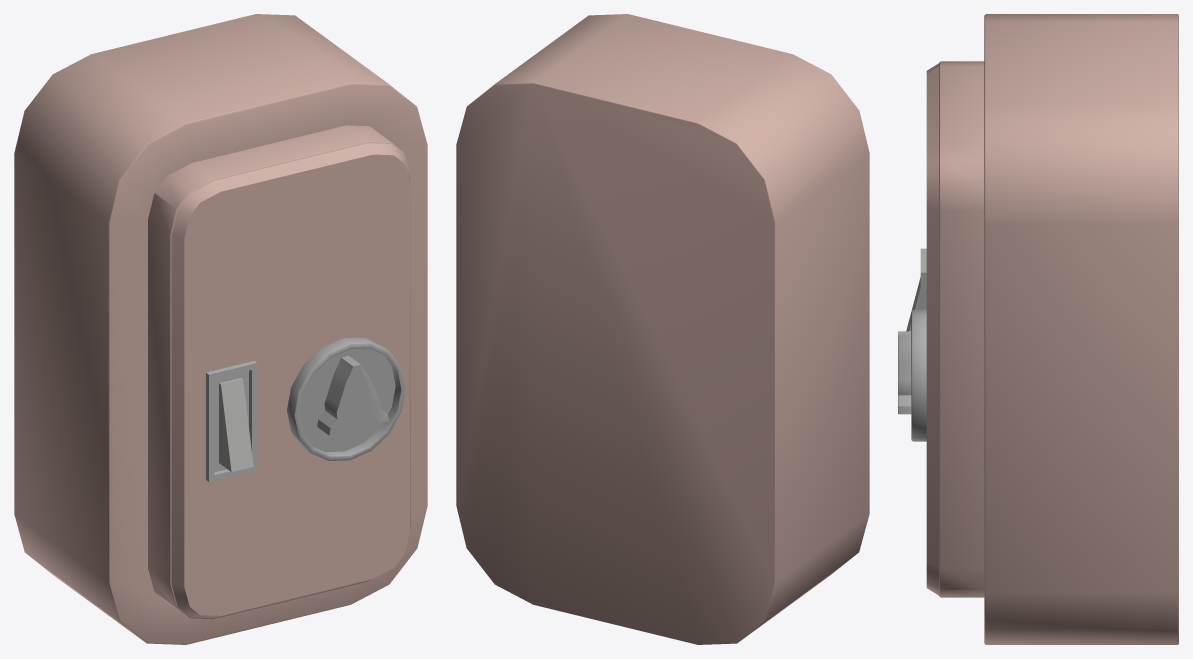
Rendered from Interruptor.fbx.
3 renders of one model, left to right at view 1: azimuth 30°, elevation 25°; view 2: azimuth 150°, elevation 25°; view 3: azimuth 270°, elevation 25°, orthographic.
Parts seen in each view (by area): view 1: interruptor; view 2: interruptor; view 3: interruptor.
Boxes of the visible parts, x1,y1,x2,y2 form: interruptor: (14, 14, 427, 644); interruptor: (456, 14, 869, 644); interruptor: (898, 14, 1178, 644).
Bounding box in the file's own units: 5.7 × 8.91 × 4.25.
